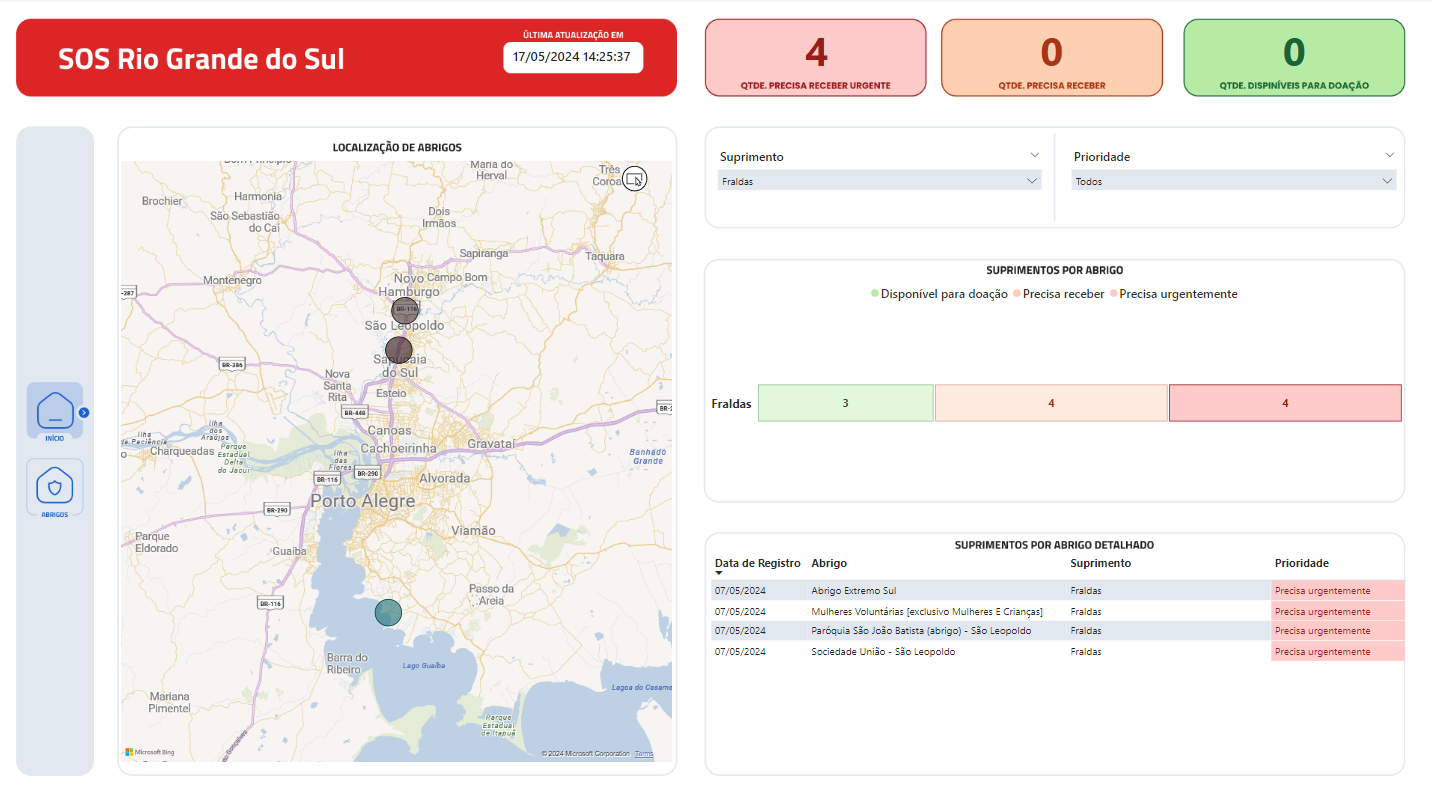

What the dashboard file says about the page in this screenshot:
{"tool":"powerbi","page":{"name":"SUPRIMENTOS","canvas":[1920,1080],"ordinal":0},"visuals":[{"type":"map","title":"Mapa dos abrigos","fields":{"Y":["Avg(DIMENSAO ABRIGO.Latitude)"],"X":["Avg(DIMENSAO ABRIGO.Longitude)"],"Series":["DIMENSAO ABRIGO.Nome do Abrigo"],"Category":["DIMENSAO ABRIGO.Endereço Completo"],"Size":["CountNonNull(FATO DOAÇÕES.SK Suprimento)"]},"box":[159.3,213.5,745.6,814.3],"z":0},{"type":"tableEx","title":"Suprimentos por abrigo","fields":{"Values":["FATO DOAÇÕES.Data Inclusão","DIMENSAO ABRIGO.Nome do Abrigo","DIMENSAO SUPRIMENTO.Nome Tratado","DIMENSAO PRIORIDADE.Descrição"]},"box":[944.6,736.5,955.5,289.5],"z":1000},{"type":"slicer","fields":{"Values":["DIMENSAO SUPRIMENTO.Nome Tratado"]},"box":[950.1,196.9,452.4,101.3],"z":2000},{"type":"slicer","fields":{"Values":["DIMENSAO PRIORIDADE.Descrição"]},"box":[1422.4,196.9,454.2,101.3],"z":3000},{"type":"barChart","title":"Quantidade de abrigos para cada tipo de suprimento","fields":{"Category":["DIMENSAO SUPRIMENTO.Nome Tratado"],"Y":["CountNonNull(FATO DOAÇÕES.SK Suprimento)"],"Series":["DIMENSAO PRIORIDADE.Descrição"]},"box":[944.6,374.6,933.8,300.4],"z":4000},{"type":"card","fields":{"Values":["Min(DATA DE ATUALIZAÇÃO DOS DADOS.Data de Atualização)"]},"box":[671.4,61.5,188.2,39.8],"z":5000},{"type":"card","fields":{"Values":["Medidas.Qtde Precisa Receber Urgentemente"]},"box":[944.6,27.1,295,85.1],"z":6000},{"type":"card","fields":{"Values":["Medidas.Qtde Precisa Receber"]},"box":[1259.5,27.1,295,85.1],"z":7000},{"type":"card","fields":{"Values":["Medidas.Qtde Dispinível para Doação"]},"box":[1583.5,27.1,295,85.1],"z":8000},{"type":"actionButton","box":[24.3,605.7,100,100],"z":9000}]}

Visuals, with their boxes on the page's 1920x1080 design canvas (x1, y1, x2, y2). These are canvas units, not pixel positions in the 1432x803 screenshot, which may show the page scaled, cropped or inside an application window:
"Mapa dos abrigos" map: {"x1": 159, "y1": 214, "x2": 905, "y2": 1028}
"Suprimentos por abrigo" tableEx: {"x1": 945, "y1": 736, "x2": 1900, "y2": 1026}
slicer - DIMENSAO SUPRIMENTO.Nome Tratado: {"x1": 950, "y1": 197, "x2": 1402, "y2": 298}
slicer - DIMENSAO PRIORIDADE.Descrição: {"x1": 1422, "y1": 197, "x2": 1877, "y2": 298}
"Quantidade de abrigos para cada tipo de suprimento" barChart: {"x1": 945, "y1": 375, "x2": 1878, "y2": 675}
card - Min(DATA DE ATUALIZAÇÃO DOS DADOS.Data de Atualização): {"x1": 671, "y1": 62, "x2": 860, "y2": 101}
card - Medidas.Qtde Precisa Receber Urgentemente: {"x1": 945, "y1": 27, "x2": 1240, "y2": 112}
card - Medidas.Qtde Precisa Receber: {"x1": 1260, "y1": 27, "x2": 1554, "y2": 112}
card - Medidas.Qtde Dispinível para Doação: {"x1": 1584, "y1": 27, "x2": 1878, "y2": 112}
actionButton: {"x1": 24, "y1": 606, "x2": 124, "y2": 706}
